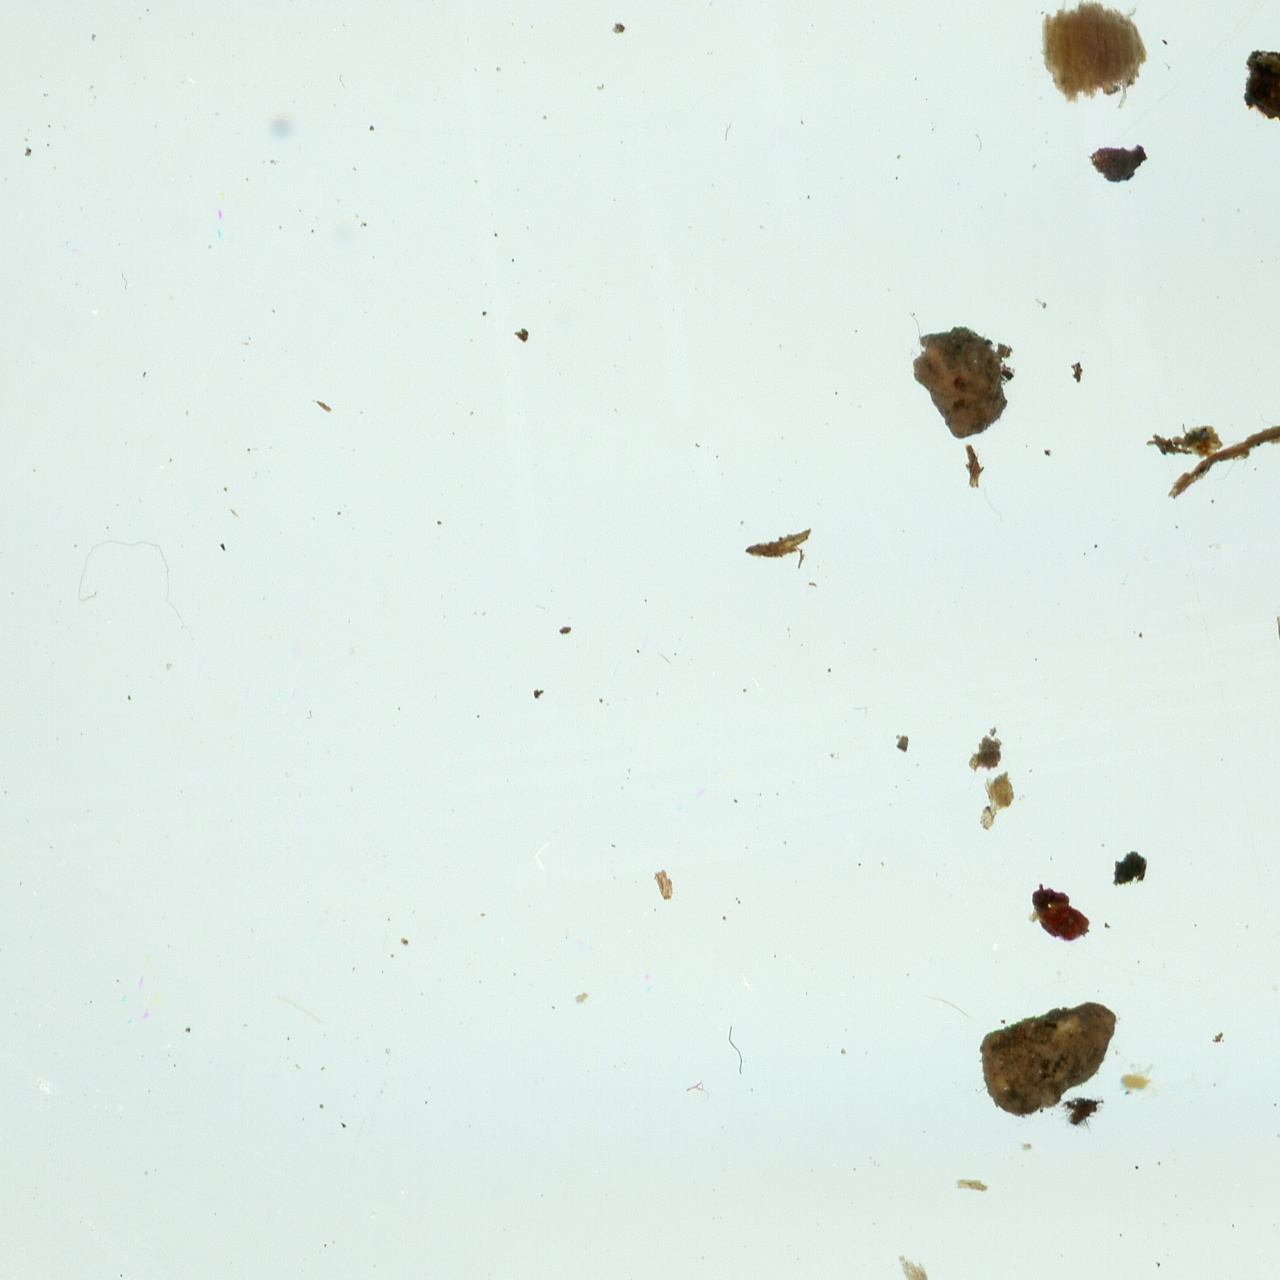arthropod: (1110, 1043, 1227, 1114)
